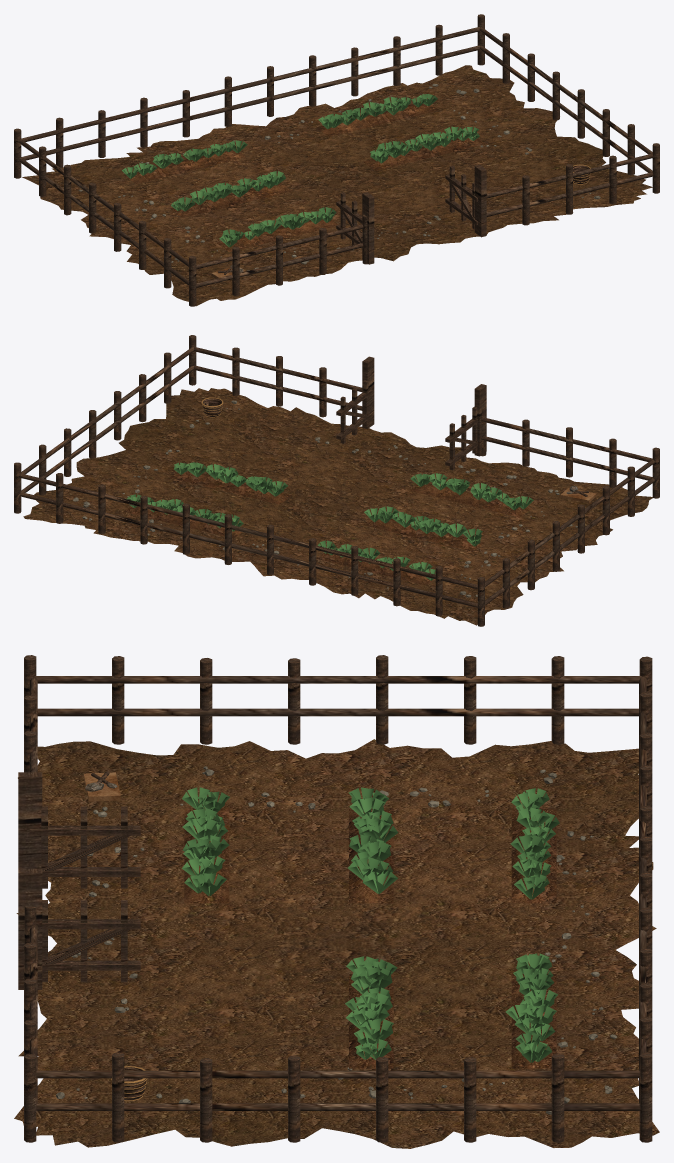
The model's file is vegetable_garden.glb.
3 renders of one model, top to bottom at view 1: azimuth 30°, elevation 25°; view 2: azimuth 150°, elevation 25°; view 3: azimuth 270°, elevation 25°, orthographic. The views are drawn at different scales.
Parts seen in each view (by area): view 1: part_0, part_2, part_4, part_3, part_1; view 2: part_0, part_2, part_4, part_3, part_1; view 3: part_0, part_2, part_4, part_3, part_1, part_7.
Part boxes in pixels (x1,y1,x2,y2): part_0: [22, 65, 652, 306]; part_2: [14, 14, 659, 306]; part_4: [122, 94, 479, 247]; part_3: [123, 102, 484, 252]; part_1: [78, 84, 600, 270]; part_0: [23, 388, 652, 625]; part_2: [14, 335, 659, 626]; part_4: [126, 462, 533, 580]; part_3: [123, 471, 531, 585]; part_1: [73, 400, 577, 597]; part_0: [14, 739, 659, 1148]; part_2: [18, 655, 652, 1142]; part_4: [182, 787, 559, 1062]; part_3: [184, 808, 556, 1068]; part_1: [56, 766, 617, 1114]; part_7: [83, 772, 120, 801].
Size of the model in its own units: 8.89 by 1.22 by 5.92.
Materials: 10 (7 with a texture image).
